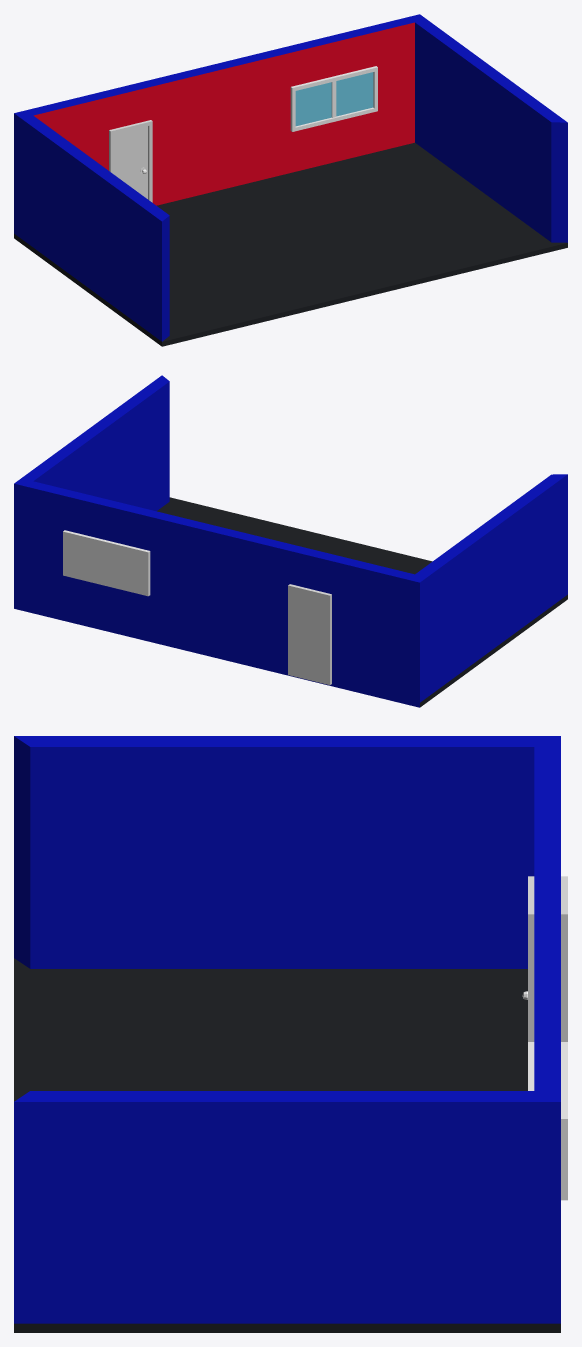
Rendered from room.fbx.
The picture shows the model from 3 angles, top to bottom: view 1: azimuth 30°, elevation 25°; view 2: azimuth 150°, elevation 25°; view 3: azimuth 270°, elevation 25°; orthographic projection. The views are drawn at different scales.
Parts seen in each view (by area): view 1: walls, floor, glass, door, window_frame, door_frame; view 2: walls, floor, window_frame, door_frame; view 3: walls, floor, door_frame, window_frame.
Part boxes in pixels (<box>): walls: <box>14,14,567,341</box>; floor: <box>14,142,567,346</box>; glass: <box>295,72,373,126</box>; door: <box>114,126,147,198</box>; window_frame: <box>290,66,377,131</box>; door_frame: <box>109,120,152,202</box>; walls: <box>14,375,567,707</box>; floor: <box>157,497,567,707</box>; window_frame: <box>63,530,150,596</box>; door_frame: <box>288,584,331,684</box>; walls: <box>14,736,560,1323</box>; floor: <box>14,958,560,1332</box>; door_frame: <box>528,876,567,1041</box>; window_frame: <box>528,1042,567,1200</box>.
Bounding box in the file's own units: 2120 × 625 × 1357.
